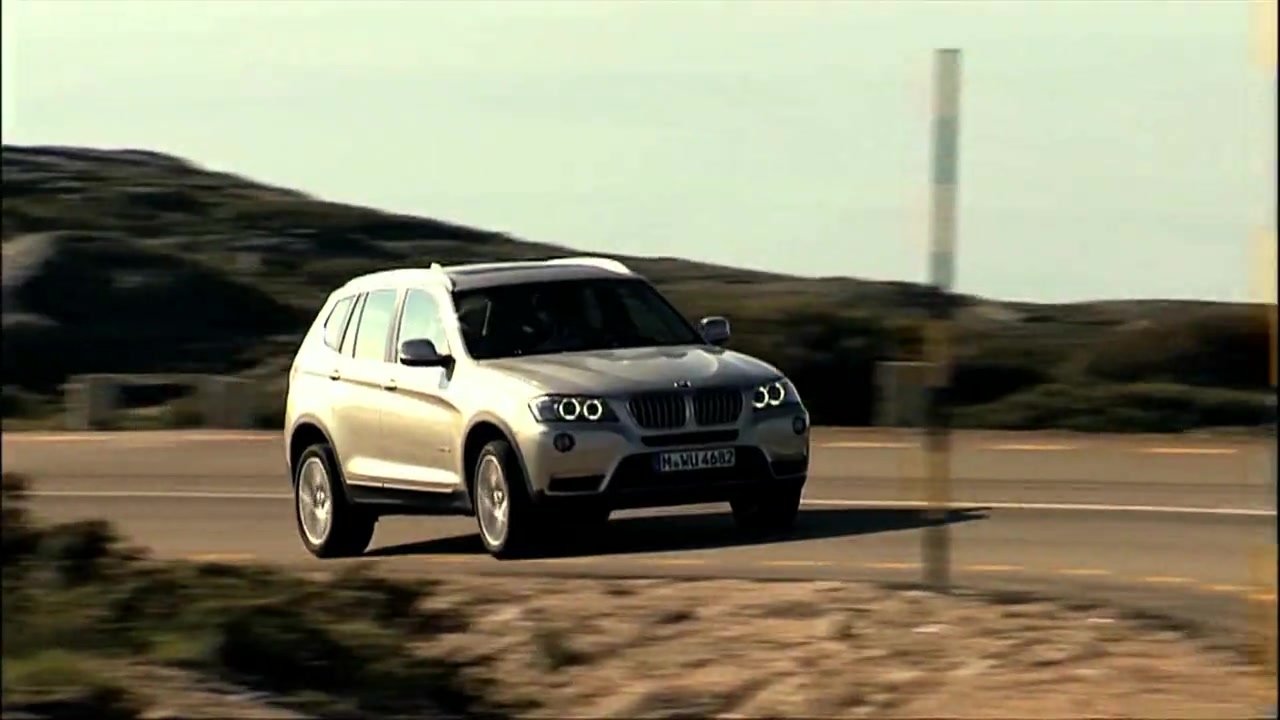car: (274, 250, 817, 570)
